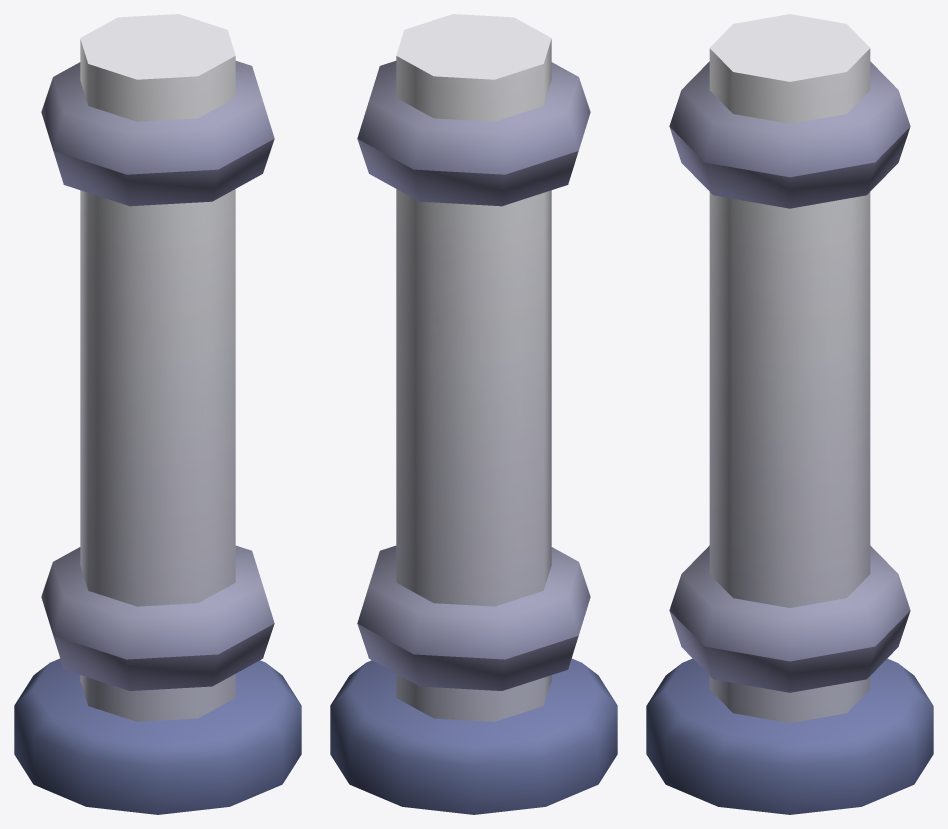
The model's file is os_wall_column.glb.
3 views of the same model, side by side, from view 1: azimuth 30°, elevation 25°; view 2: azimuth 150°, elevation 25°; view 3: azimuth 270°, elevation 25° (orthographic).
Parts seen in each view (by area): view 1: template-detail; view 2: template-detail; view 3: template-detail.
Part boxes in pixels (x1,y1,x2,y2): template-detail: (14,14,301,814); template-detail: (330,14,617,814); template-detail: (646,14,933,814).
Bounding box in the file's own units: 1.47 × 3.98 × 1.47.
Materials: 1 (1 with a texture image).
